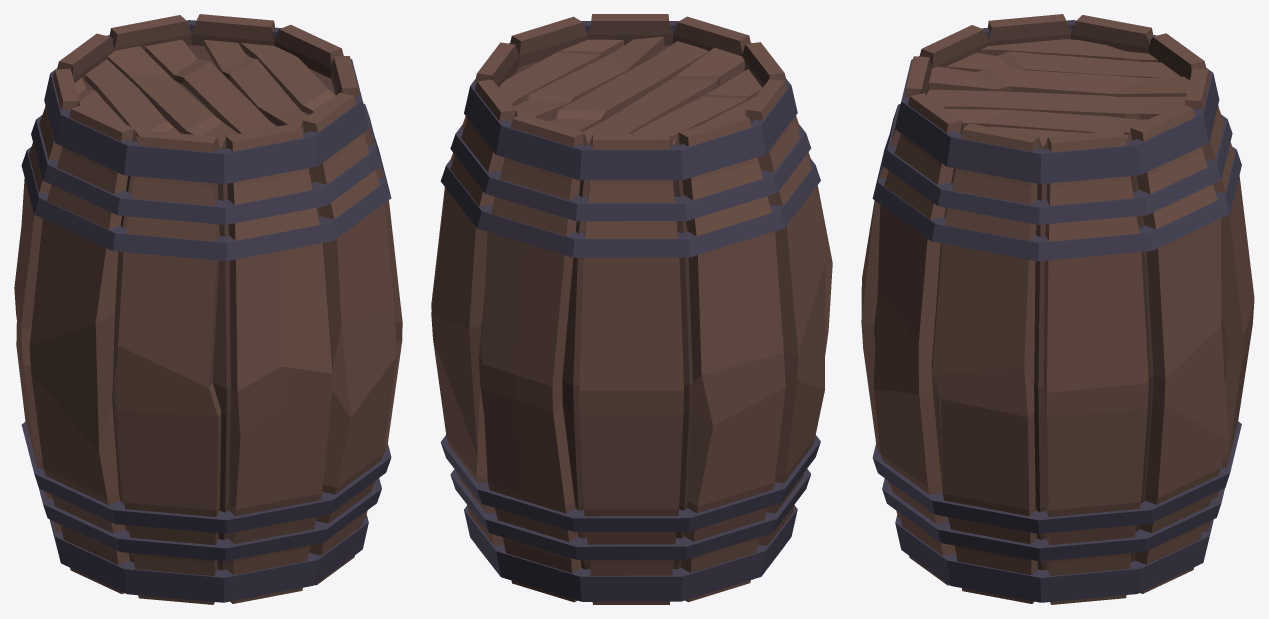
File: Barrel.glb
3 renders of one model, left to right at view 1: azimuth 30°, elevation 25°; view 2: azimuth 150°, elevation 25°; view 3: azimuth 270°, elevation 25°, orthographic.
Parts seen in each view (by area): view 1: Barrel; view 2: Barrel; view 3: Barrel.
Part boxes in pixels (left/top/right/bottom): Barrel: left=14, top=14, right=402, bottom=604; Barrel: left=431, top=14, right=832, bottom=604; Barrel: left=861, top=14, right=1254, bottom=604.
Size of the model in its own units: 1.04 by 1.35 by 1.03.
